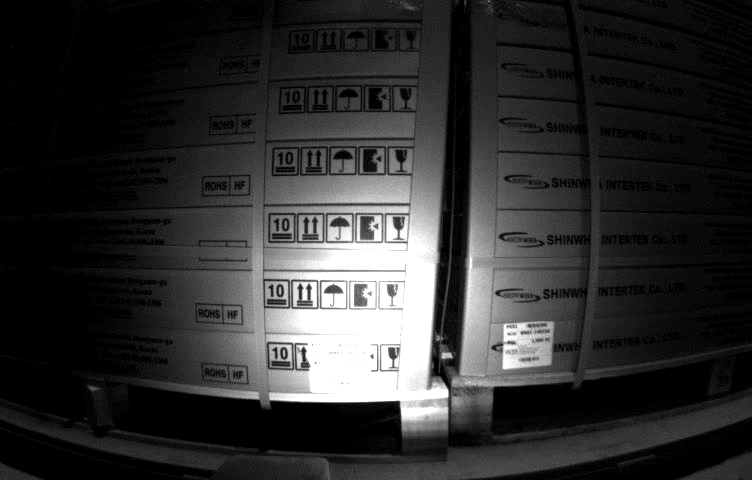True Barcode: (309, 340, 371, 394), (503, 322, 551, 367)
